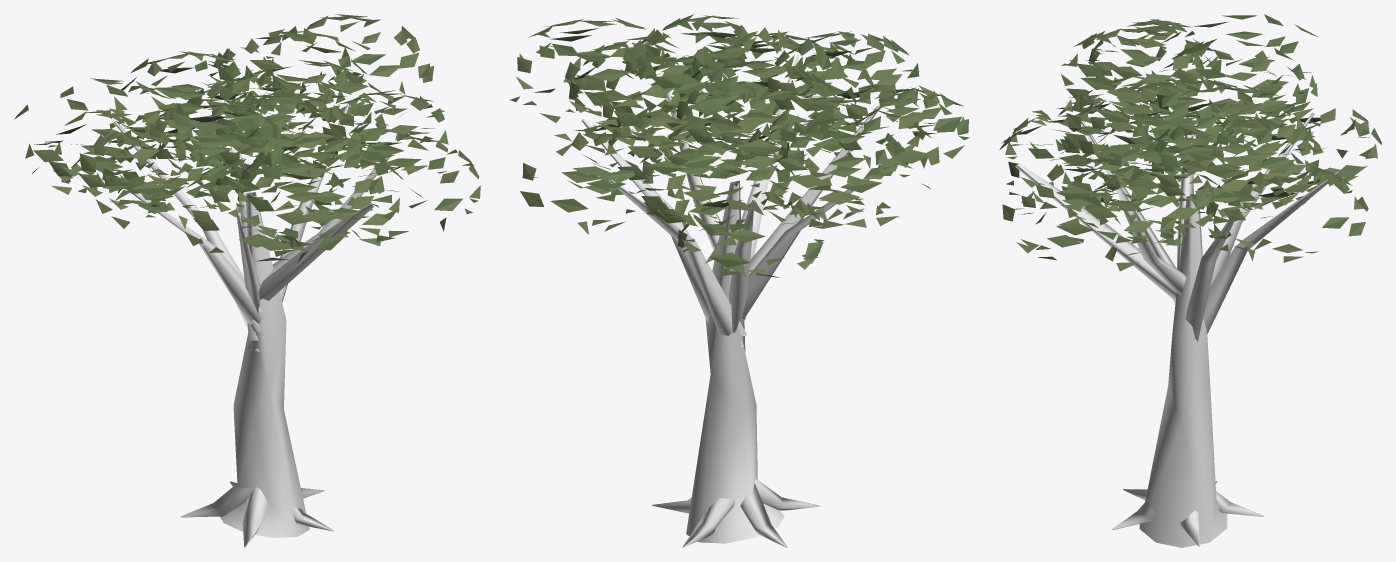
Rendered from SM_XF_Canopy_1.fbx.
3 views of the same model, side by side, from view 1: azimuth 30°, elevation 25°; view 2: azimuth 150°, elevation 25°; view 3: azimuth 270°, elevation 25° (orthographic). The views are drawn at different scales.
Visible parts, largest first — view 1: SM_XF_Canopy_1; view 2: SM_XF_Canopy_1; view 3: SM_XF_Canopy_1.
Part boxes in pixels (<box>): SM_XF_Canopy_1: <box>14,14,480,547</box>; SM_XF_Canopy_1: <box>510,14,969,547</box>; SM_XF_Canopy_1: <box>999,14,1381,547</box>.
Size of the model in its own units: 511 by 446 by 584.
